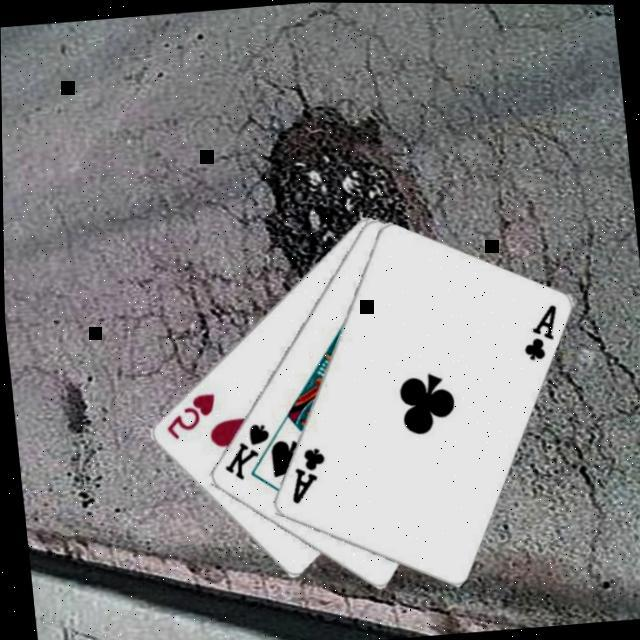5H: (155, 387, 218, 442)
AC: (280, 443, 328, 506), (512, 299, 560, 362)
KS: (213, 418, 273, 482)
